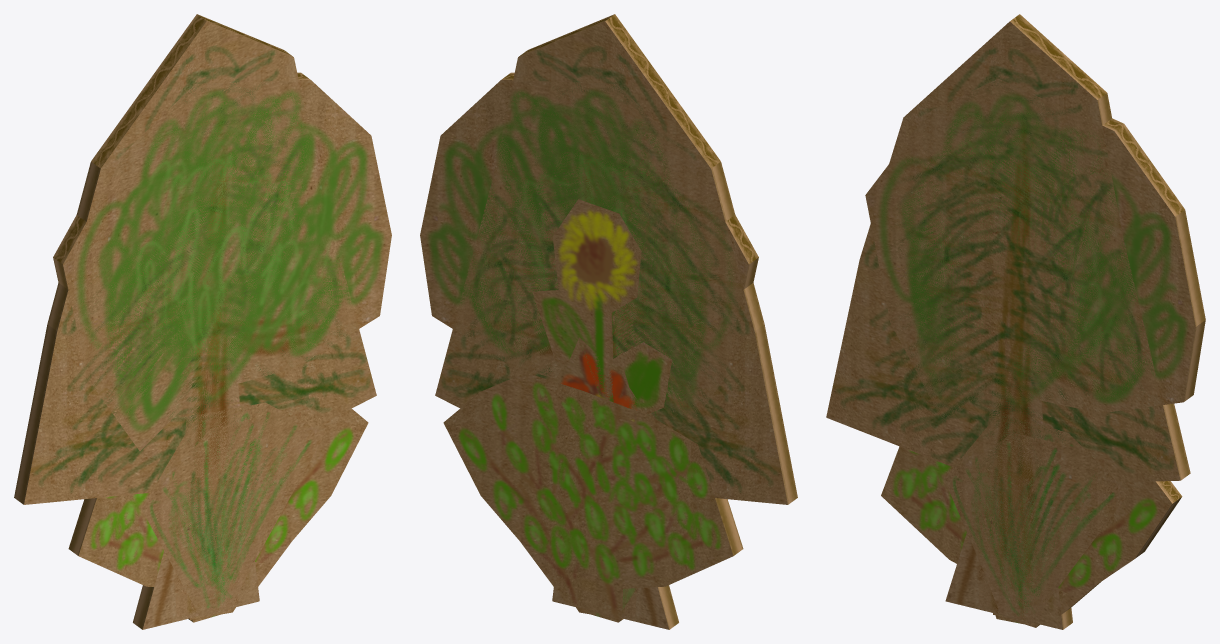
Rendered from Natur.fbx.
3 renders of one model, left to right at view 1: azimuth 30°, elevation 25°; view 2: azimuth 150°, elevation 25°; view 3: azimuth 330°, elevation 25°, orthographic.
Parts seen in each view (by area): view 1: Laubbaum, Tanne, Grass2, Grass, Busch; view 2: Tanne, Laubbaum, Busch, Sonnenblume, Blume; view 3: Tanne, Laubbaum, Grass, Grass2, Busch.
Part boxes in pixels (x1=…): Laubbaum: x1=53, y1=72, x2=391, y2=629; Tanne: x1=14, y1=14, x2=376, y2=621; Grass2: x1=141, y1=402, x2=325, y2=616; Grass: x1=156, y1=411, x2=308, y2=612; Busch: x1=68, y1=408, x2=368, y2=619; Tanne: x1=435, y1=14, x2=797, y2=621; Laubbaum: x1=420, y1=72, x2=758, y2=629; Busch: x1=443, y1=372, x2=743, y2=619; Sonnenblume: x1=532, y1=199, x2=672, y2=618; Blume: x1=553, y1=337, x2=637, y2=622; Tanne: x1=826, y1=14, x2=1190, y2=629; Laubbaum: x1=865, y1=78, x2=1205, y2=628; Grass: x1=959, y1=432, x2=1097, y2=622; Grass2: x1=944, y1=412, x2=1128, y2=623; Busch: x1=881, y1=446, x2=1182, y2=614.
Bounding box in the file's own units: 428 × 20 × 664.
